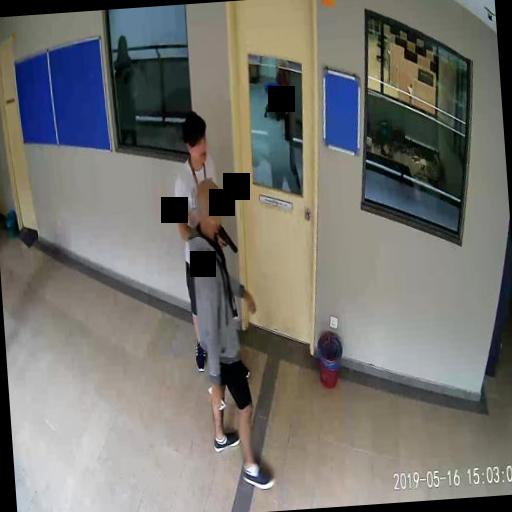Handgun: (216, 220, 236, 256)
